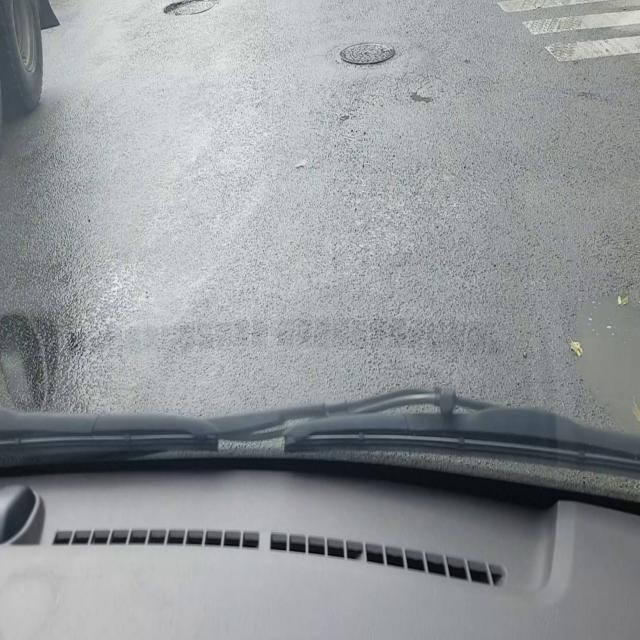Pothole: (162, 0, 220, 17)
